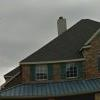Chimney: (49, 7, 72, 38)
